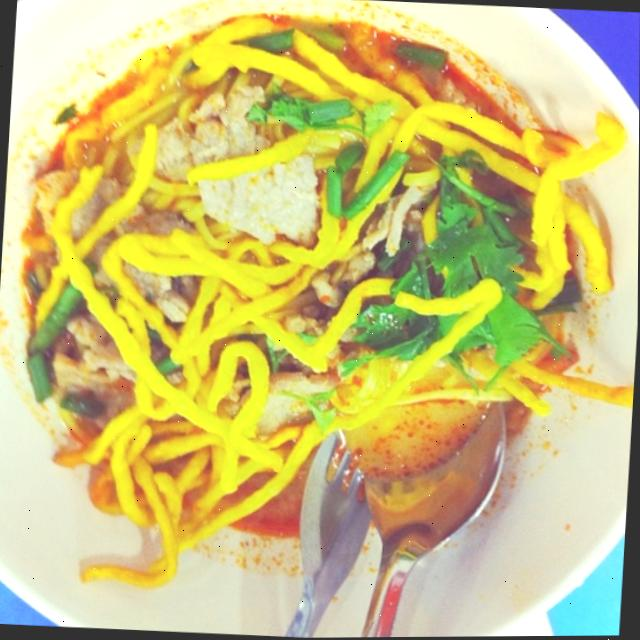面条主食: (4, 0, 640, 637)
